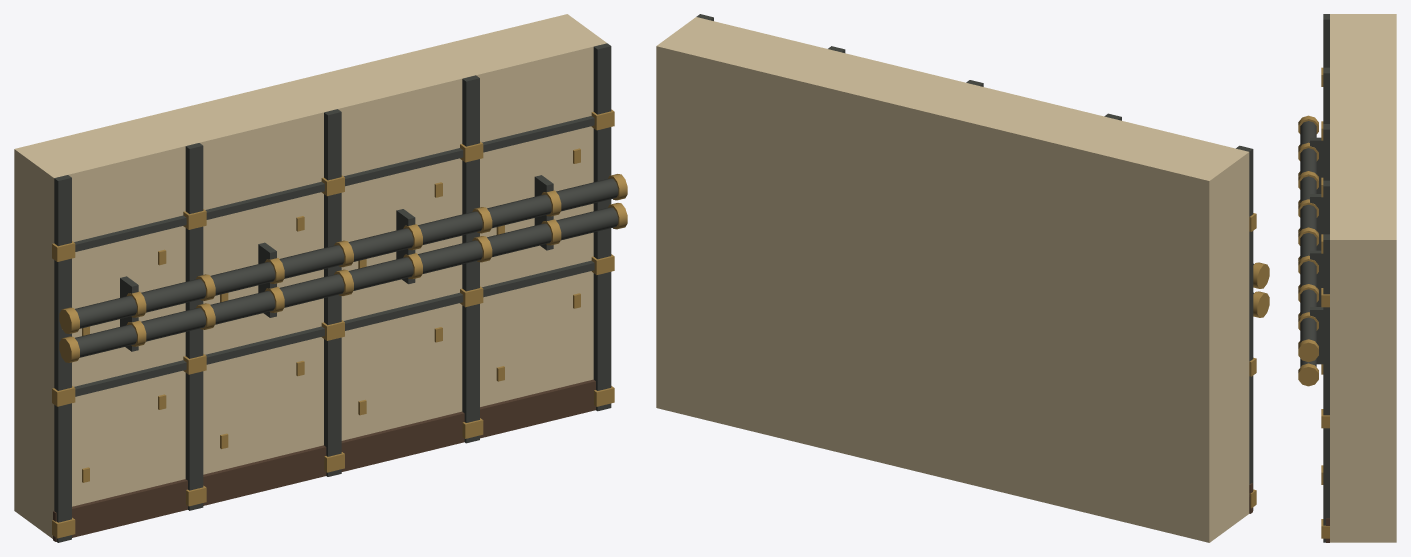
The model's file is retaining_b.glb.
3 views of the same model, side by side, from view 1: azimuth 30°, elevation 25°; view 2: azimuth 150°, elevation 25°; view 3: azimuth 270°, elevation 25° (orthographic). The views are drawn at different scales.
Visible parts, largest first — view 1: retaining_b; view 2: retaining_b; view 3: retaining_b.
Part boxes in pixels (left/top/right/bottom): retaining_b: left=14, top=14, right=627, bottom=542; retaining_b: left=656, top=14, right=1269, bottom=542; retaining_b: left=1298, top=14, right=1396, bottom=542.
Bounding box in the file's own units: 8.06 × 5 × 1.47.
